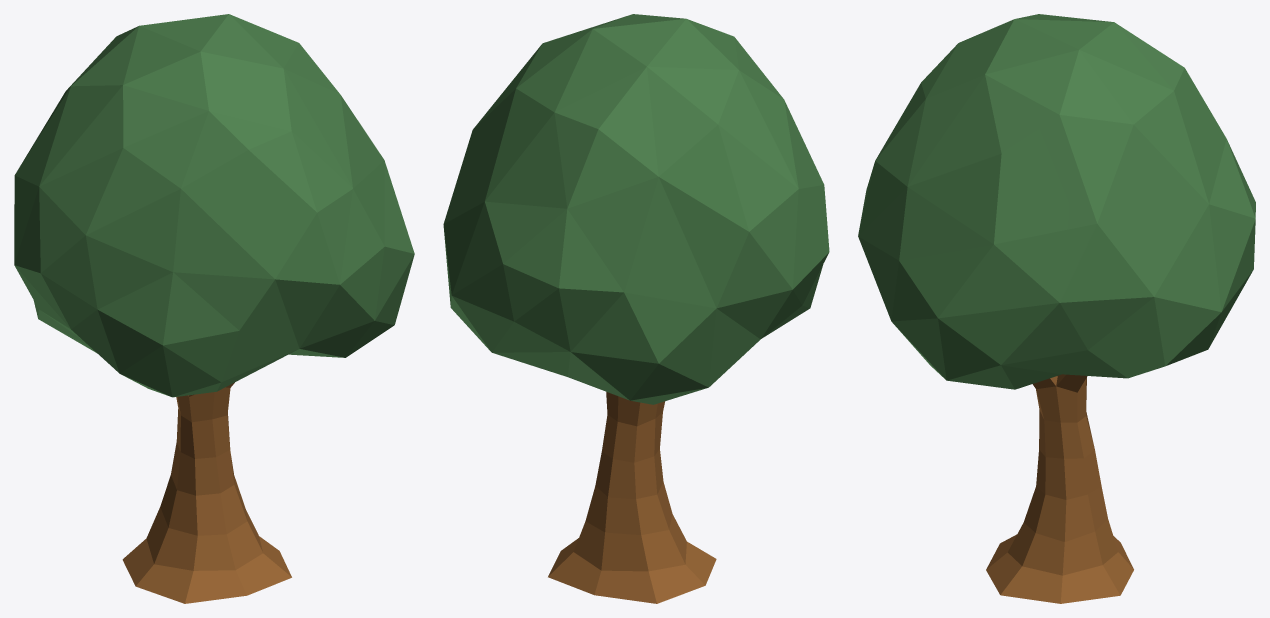
The model's file is MediumTree1.fbx.
3 views of the same model, side by side, from view 1: azimuth 30°, elevation 25°; view 2: azimuth 150°, elevation 25°; view 3: azimuth 270°, elevation 25° (orthographic).
Visible parts, largest first — view 1: LowPoly Tree 01.001; view 2: LowPoly Tree 01.001; view 3: LowPoly Tree 01.001.
Boxes of the visible parts, x1=… form: LowPoly Tree 01.001: x1=14, y1=14, x2=414, y2=603; LowPoly Tree 01.001: x1=443, y1=14, x2=829, y2=603; LowPoly Tree 01.001: x1=858, y1=14, x2=1255, y2=603.
Bounding box in the file's own units: 392 × 580 × 391.
